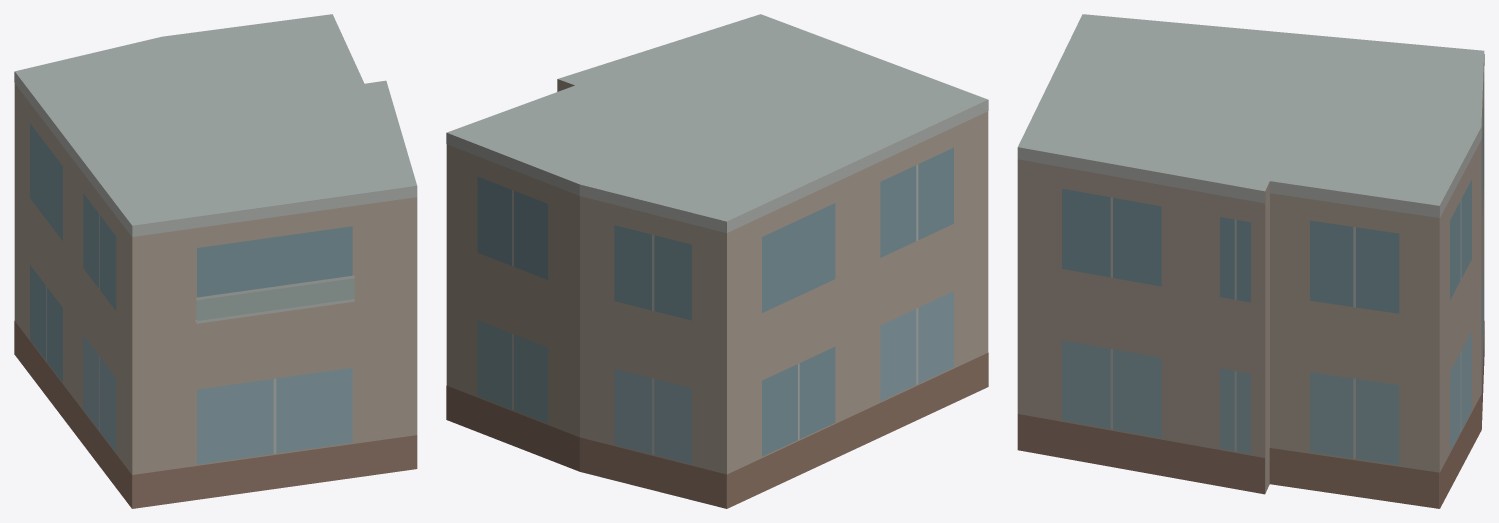
File: survey-upis-32509088.glb
3 views of the same model, side by side, from view 1: azimuth 30°, elevation 25°; view 2: azimuth 150°, elevation 25°; view 3: azimuth 270°, elevation 25° (orthographic). The views are drawn at different scales.
Parts seen in each view (by area): view 1: survey-upis-32509088.tmp; view 2: survey-upis-32509088.tmp; view 3: survey-upis-32509088.tmp.
Boxes of the visible parts, x1,y1,x2,y2 form: survey-upis-32509088.tmp: (14, 14, 417, 508); survey-upis-32509088.tmp: (446, 14, 988, 508); survey-upis-32509088.tmp: (1017, 14, 1484, 508).
Size of the model in its own units: 8.29 by 6.1 by 8.53.
